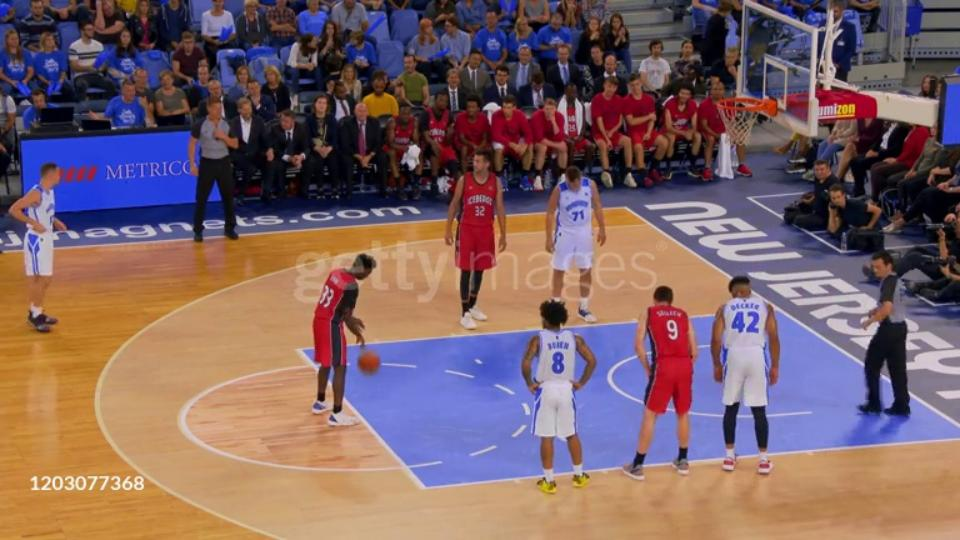hoop: (714, 94, 783, 122)
